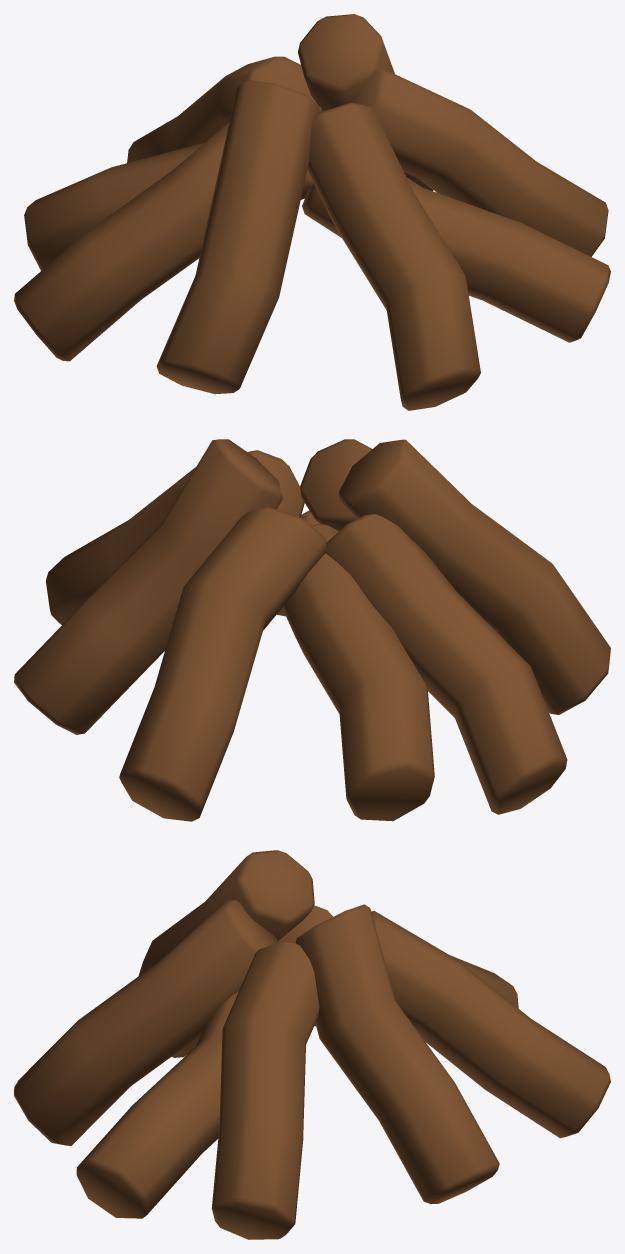
File: firepit.fbx
The picture shows the model from 3 angles, top to bottom: view 1: azimuth 30°, elevation 25°; view 2: azimuth 150°, elevation 25°; view 3: azimuth 270°, elevation 25°; orthographic projection. The views are drawn at different scales.
Parts seen in each view (by area): view 1: firepit; view 2: firepit; view 3: firepit.
Part boxes in pixels (x1,y1,x2,y2): firepit: [14, 14, 610, 410]; firepit: [14, 439, 610, 821]; firepit: [14, 850, 610, 1239].
Bounding box in the file's own units: 108 × 54.12 × 108.
